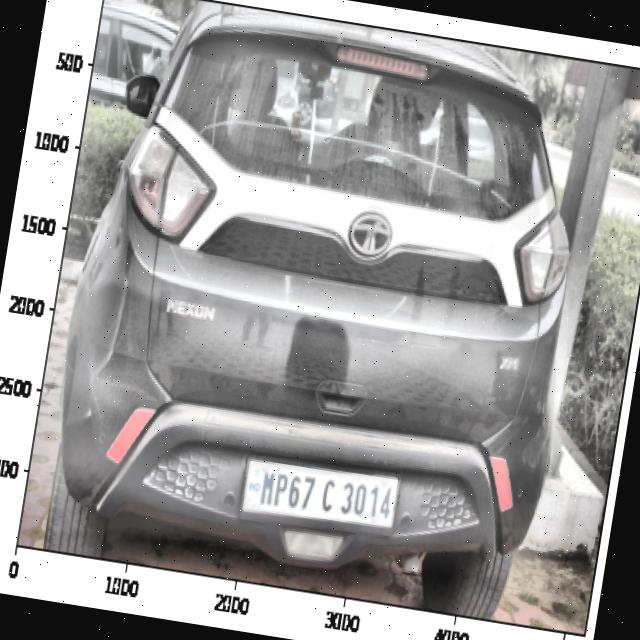license_plate: (250, 458, 401, 536)
